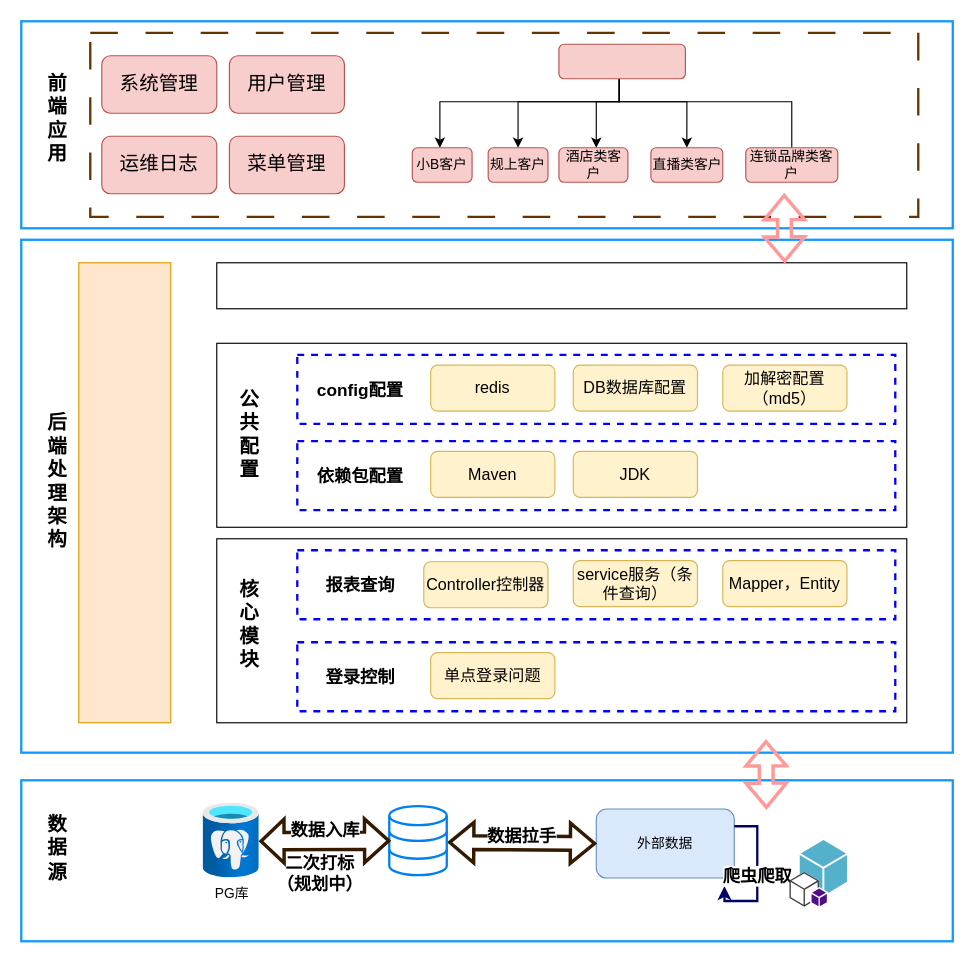
The diagram is 973 pixels wide and 961 high, and some of its shapes have lost their labels. The centre of each missing label's shape, as x and y in pixels:
"CDAP" goes at pixel 417 840.
"数据开放、系统日志管理" goes at pixel 561 285.
"数据运营管理一体化" goes at pixel 124 492.
"系统报表" goes at pixel 621 61.
